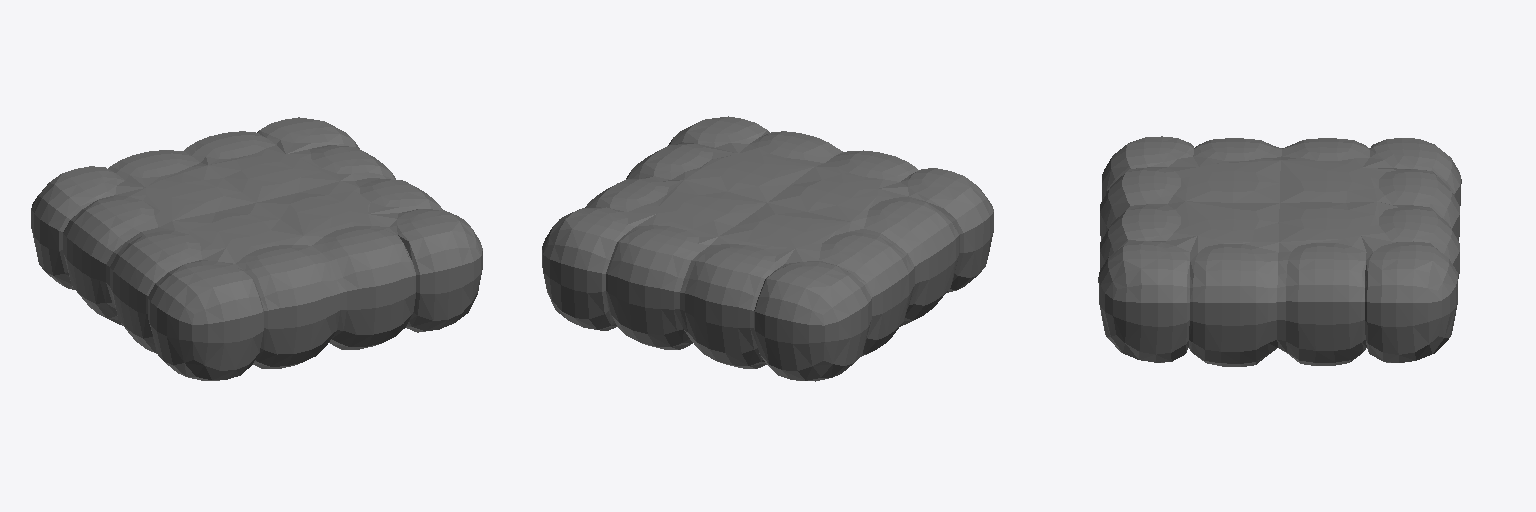
Rendered from CloudMap.obj.
3 views of the same model, side by side, from view 1: azimuth 30°, elevation 25°; view 2: azimuth 150°, elevation 25°; view 3: azimuth 270°, elevation 25° (orthographic).
Visible parts, largest first — view 1: n0b0; view 2: n0b0; view 3: n0b0.
Boxes of the visible parts, <box> form: n0b0: <box>31,117,482,380</box>; n0b0: <box>542,116,993,381</box>; n0b0: <box>1098,136,1461,366</box>.
Size of the model in its own units: 28.54 by 9.86 by 28.51.